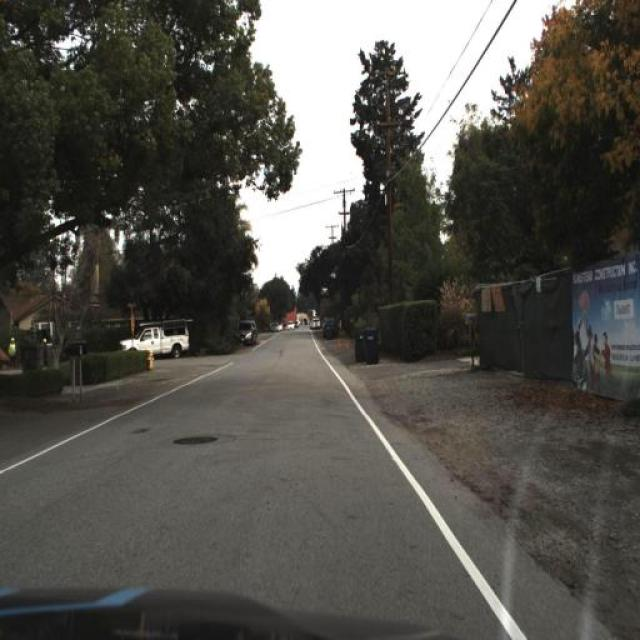car: (117, 319, 191, 366), (232, 328, 254, 358)
